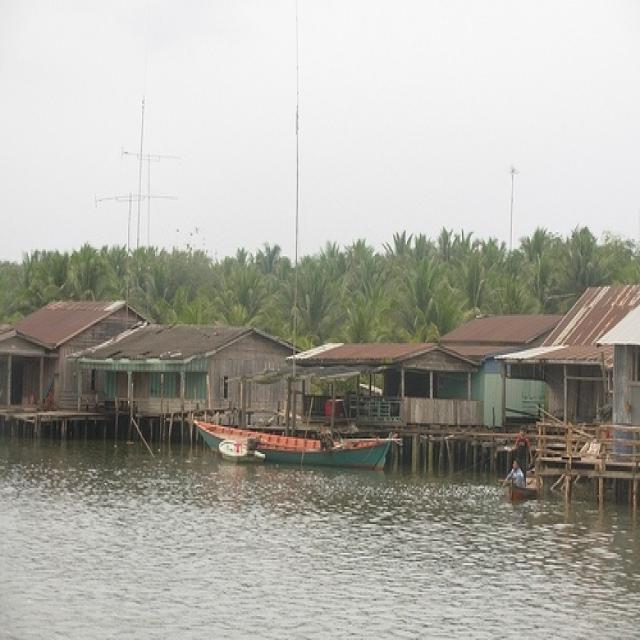boat: (182, 414, 396, 473), (502, 459, 542, 511)
